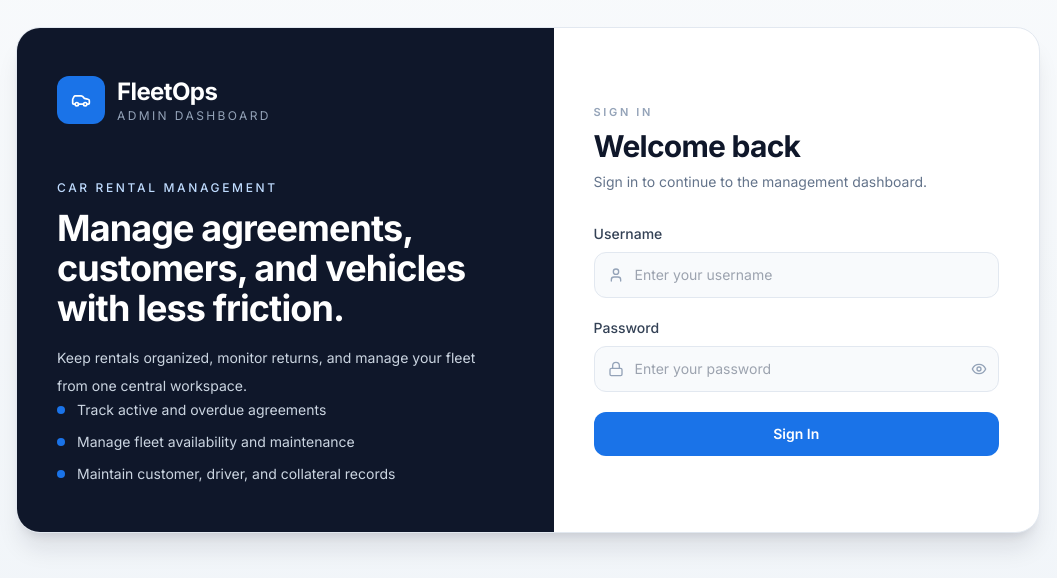
Scenario: LoginPage failure title › says so when sign-in is rate limited
Type "admin" into the field labelled "Username". click: (796, 275)
box: [594,252,999,298]
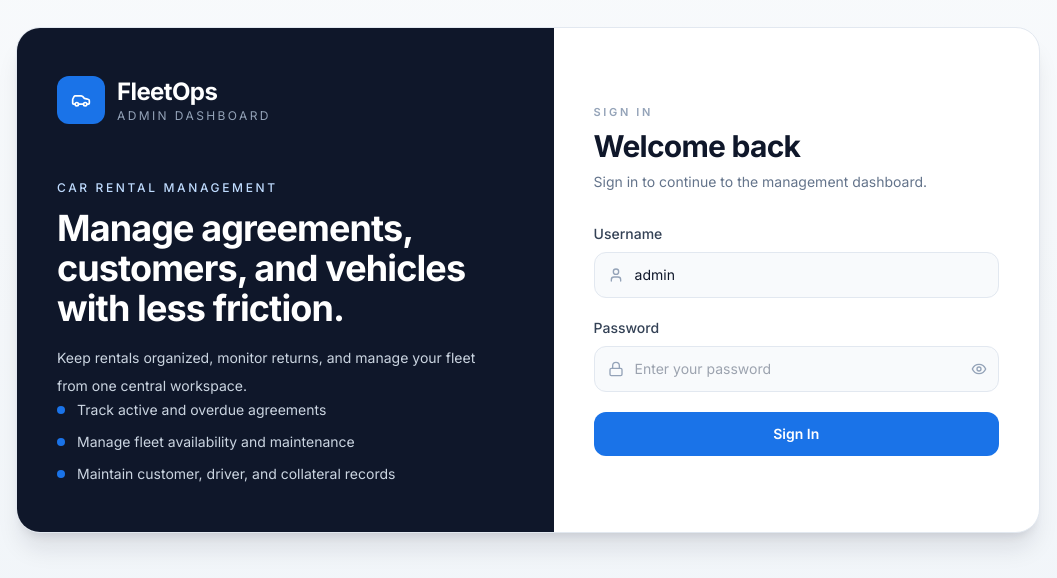
Type "secret-pass" into the password field labelled "Password". click: (796, 369)
box: [594,346,999,392]
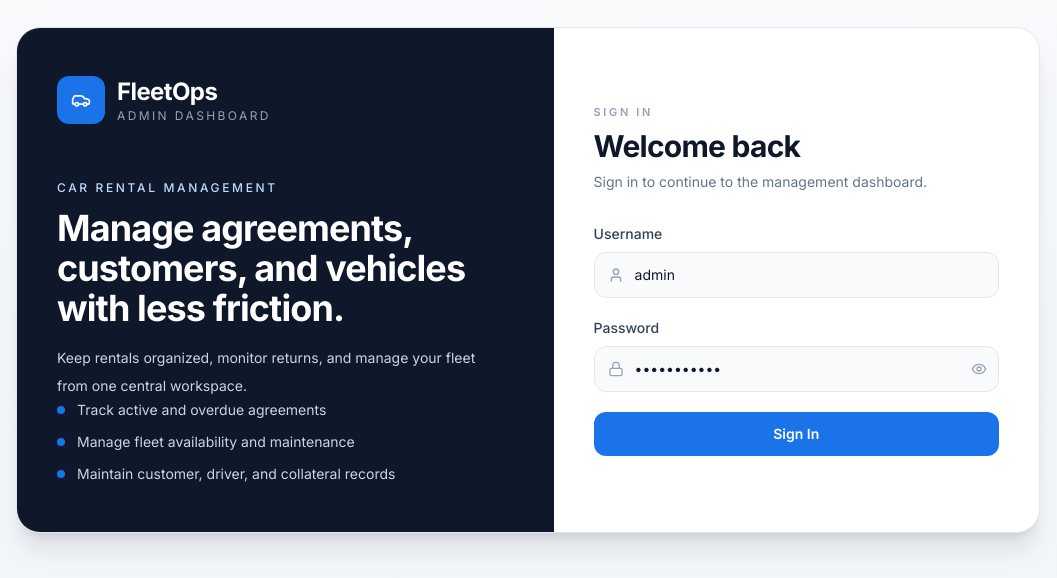
Submit the form labelled "Username", box [594,224,999,456]
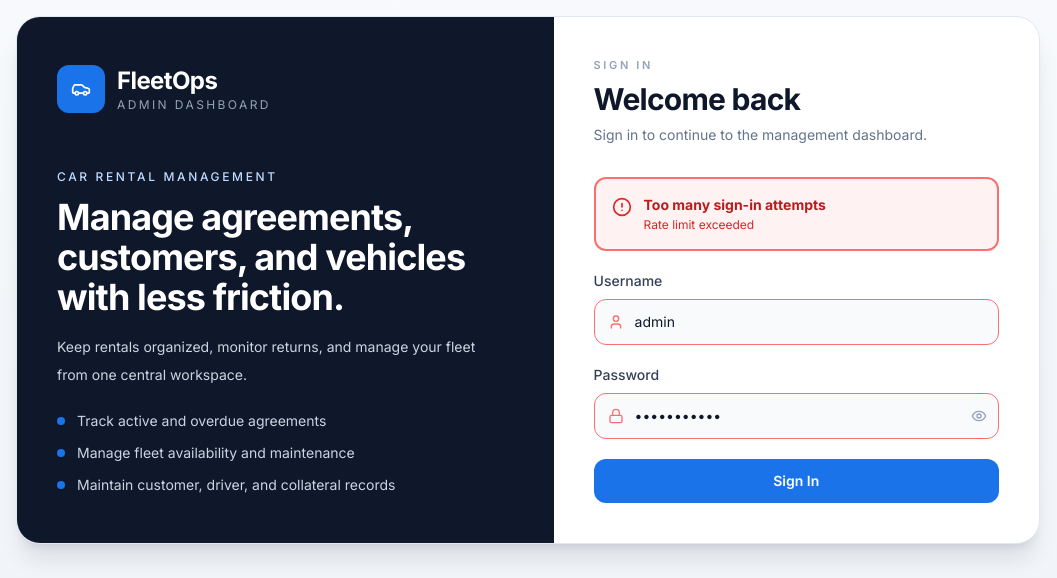
Now the text "Too many sign-in attempts" is shown, box [644,195,826,215]
